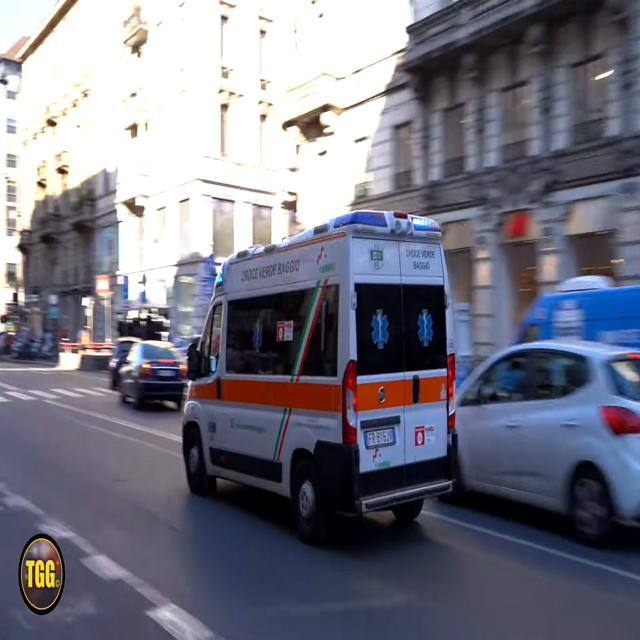emergency-vehicles: (165, 204, 476, 560)
